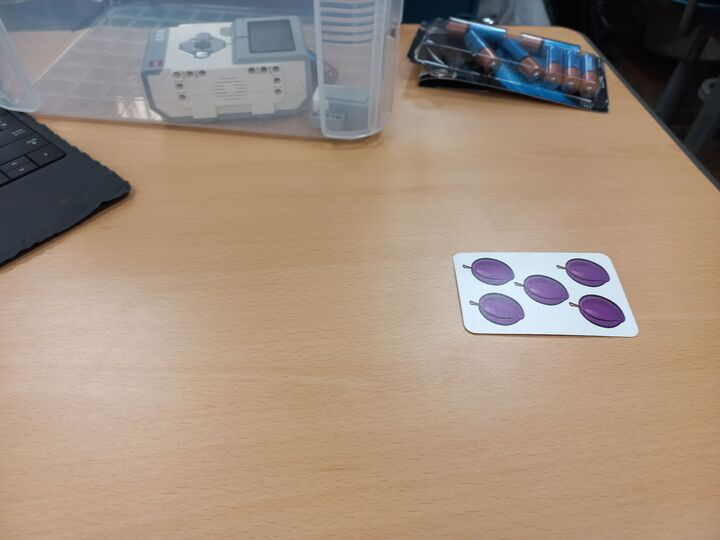plum5: (451, 250, 641, 339)
